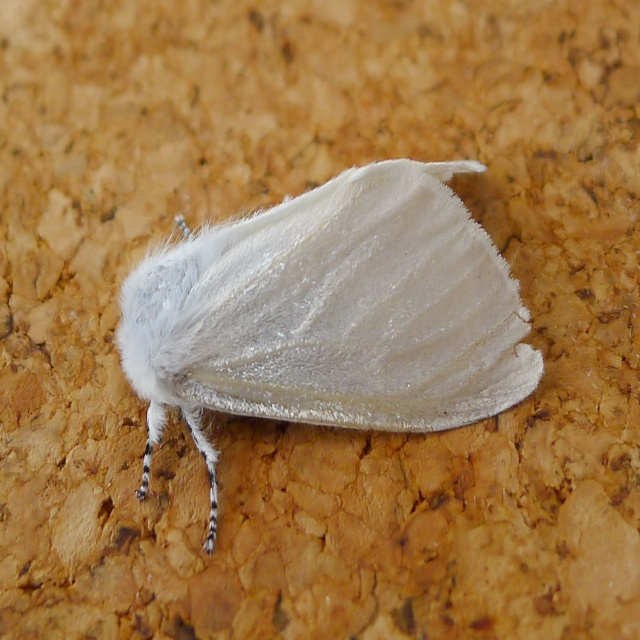Moths and butterflies: (113, 159, 544, 557)
